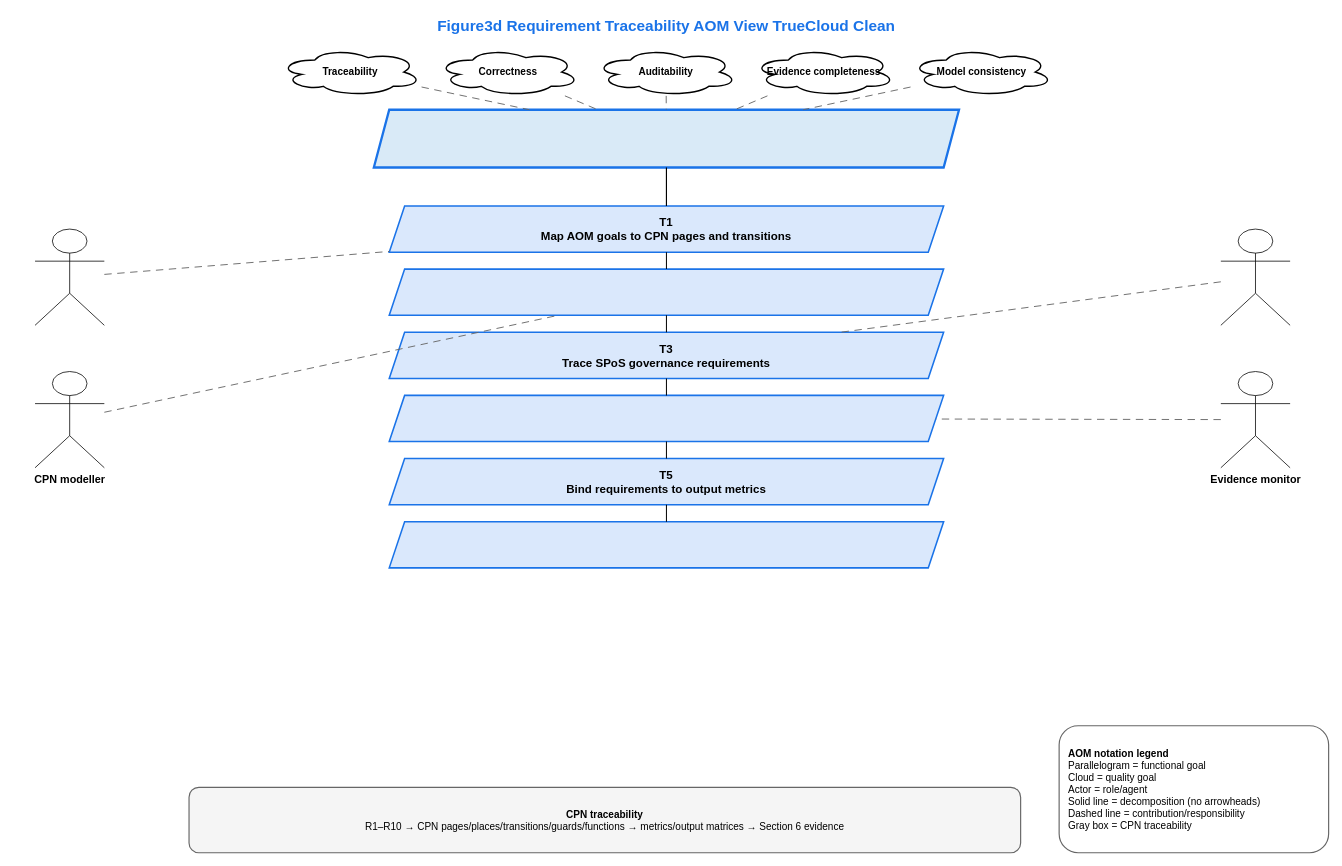
Image size: 1342x866. Some labels were removed from this diagram. Here are the shapes that lost their labels. From the top down, the centre of each, then its label:
the point at 666,138: Root Goal Trace SPoS-MSC requirements to executable CPN and evaluation evidence
the point at 69,276: Requirements analyst
the point at 666,292: T2 Trace MSC lifecycle requirements
the point at 1255,276: Simulation analyst
the point at 666,418: T4 Trace integration requirements
the point at 666,544: T6 Check coverage before simulation evaluation
